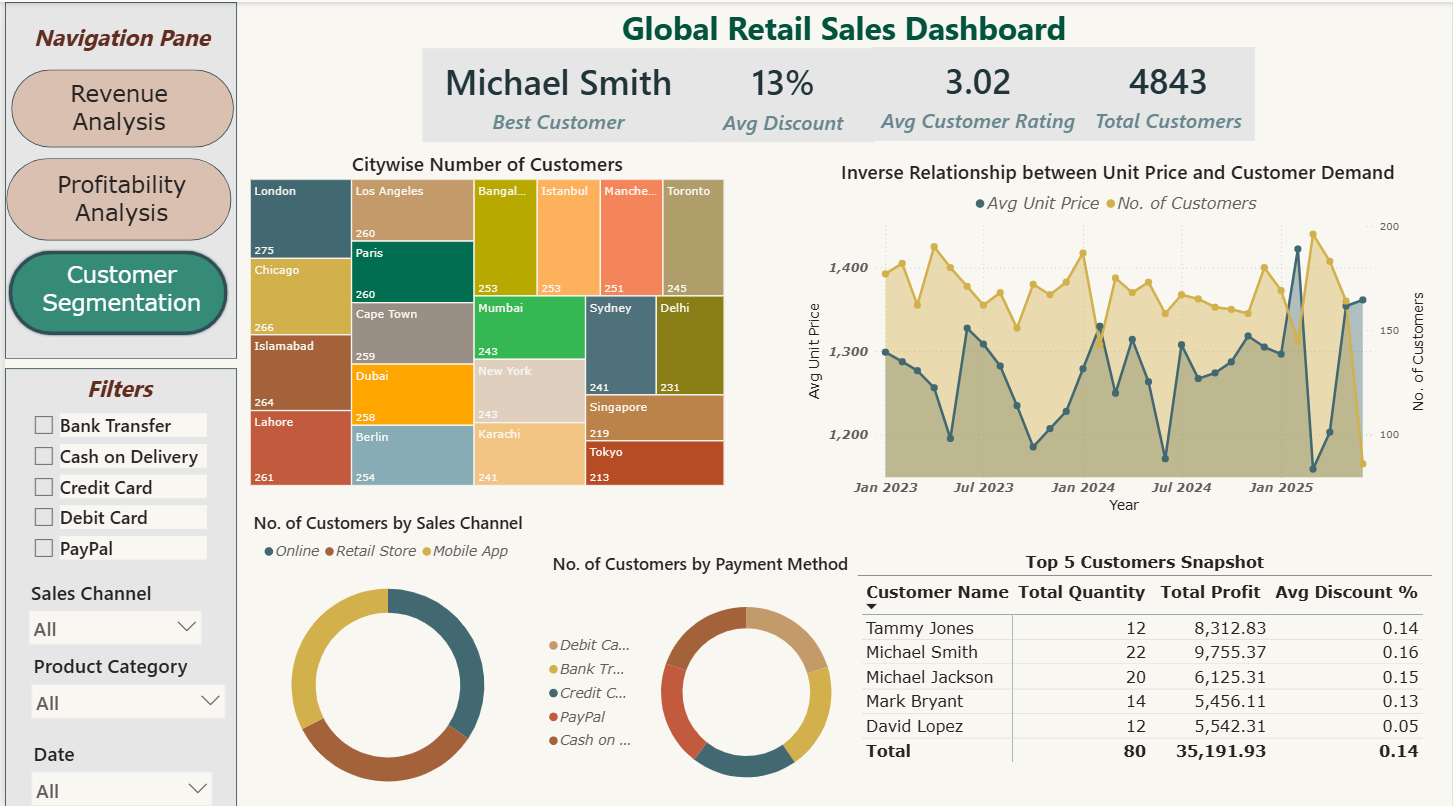

The page's visual inventory and layout, read from the dashboard file:
{"tool":"powerbi","page":{"name":"Customer Segmentation","canvas":[1700,950],"ordinal":2},"visuals":[{"type":"shape","box":[0,0,272.7,419.5],"z":0},{"type":"group","id":"g1","title":"Group 1","box":[1017.3,52.5,450.1,110.3],"z":0,"group":"g3"},{"type":"card","fields":{"Values":["Min(global_retail_sales_dataset.Customer_Name)"]},"box":[490.1,53.8,320,110],"z":1000,"group":"g3"},{"type":"shape","box":[6.7,80,261.7,91.7],"z":1000},{"type":"card","fields":{"Values":["Avg(global_retail_sales_dataset.Discount_Percent)"]},"box":[807.5,53.8,213.7,110],"z":2000,"group":"g3"},{"type":"group","id":"g2","title":"Group 3","box":[2,183,264.6,96.8],"z":2000},{"type":"shape","box":[0,430.5,272.7,519.5],"z":3000},{"type":"card","fields":{"Values":["Avg(global_retail_sales_dataset.Customer_Rating)"]},"box":[1017.3,52.5,252,110],"z":4000,"group":"g1"},{"type":"shape","box":[1.6,289,263,104.9],"z":4000},{"type":"card","fields":{"Values":["Count(global_retail_sales_dataset.Customer_Name)"]},"box":[1264.9,52.7,202.5,110],"z":5000,"group":"g1"},{"type":"shape","box":[2,183,264.6,96.8],"z":5000,"group":"g2"},{"type":"textbox","box":[61.3,430.8,145.2,59.7],"z":5000},{"type":"textbox","box":[53.7,191.3,168.3,81.7],"z":6000,"group":"g2"},{"type":"textbox","box":[33.3,298.3,206.7,85],"z":6000},{"type":"slicer","fields":{"Values":["global_retail_sales_dataset.Payment_Method"]},"box":[21.7,475,220,195],"z":7000},{"type":"slicer","fields":{"Values":["global_retail_sales_dataset.Sales_Channel"]},"box":[18.3,673.3,223.3,86.7],"z":8000},{"type":"slicer","fields":{"Values":["global_retail_sales_dataset.Product_Category"]},"box":[20,760,248.3,101.7],"z":9000},{"type":"slicer","fields":{"Values":["global_retail_sales_dataset.Order_Date.Variation.Date Hierarchy.Year","global_retail_sales_dataset.Order_Date.Variation.Date Hierarchy.Quarter","global_retail_sales_dataset.Order_Date.Variation.Date Hierarchy.Month","global_retail_sales_dataset.Order_Date.Variation.Date Hierarchy.Day"]},"box":[20,861.7,233.3,88.3],"z":10000},{"type":"textbox","box":[20,18.3,233.3,61.7],"z":11000},{"type":"textbox","box":[63.3,85,141.7,83.3],"z":12000},{"type":"textbox","box":[708,0,556,62],"z":13000},{"type":"group","id":"g3","title":"Group 5","box":[490.1,52.5,977.3,111.3],"z":14000},{"type":"treemap","title":"Citywise Number of Customers","fields":{"Group":["global_retail_sales_dataset.City"],"Values":["Count(global_retail_sales_dataset.Customer_Name)"]},"box":[283.3,173.3,566.7,400],"z":15000},{"type":"lineChart","title":"Inverse Relationship between Unit Price and Customer Demand","fields":{"Y":["Avg(global_retail_sales_dataset.Unit_Price)"],"Y2":["Count(global_retail_sales_dataset.Customer_Name)"],"Category":["global_retail_sales_dataset.Order_Date.Variation.Date Hierarchy.Year","global_retail_sales_dataset.Order_Date.Variation.Date Hierarchy.Quarter","global_retail_sales_dataset.Order_Date.Variation.Date Hierarchy.Month"]},"box":[938.3,183.3,738.3,421.7],"z":16000},{"type":"donutChart","fields":{"Category":["global_retail_sales_dataset.Sales_Channel"],"Y":["Count(global_retail_sales_dataset.Customer_Name)"]},"box":[283.3,598.3,333.3,351.7],"z":17000},{"type":"donutChart","fields":{"Category":["global_retail_sales_dataset.Payment_Method"],"Y":["Count(global_retail_sales_dataset.Customer_Name)"]},"box":[633.3,646.7,368.3,303.3],"z":18000},{"type":"pivotTable","title":"Top 5 Customers Snapshot","fields":{"Rows":["global_retail_sales_dataset.Customer_Name"],"Values":["Sum(global_retail_sales_dataset.Quantity)","Sum(global_retail_sales_dataset.Profit)","Avg(global_retail_sales_dataset.Discount_Percent)"]},"box":[1001.7,646.7,675,261.7],"z":19000}]}

Visuals, with their boxes in screenshot pixels (x1, y1, x2, y2), scaled from the page's 1700x950 canvas onto the 1453x806 screenshot:
shape: [0,0,233,356]
"Group 1" group: [869,45,1254,138]
card - Min(global_retail_sales_dataset.Customer_Name): [419,46,692,139]
shape: [6,68,229,146]
card - Avg(global_retail_sales_dataset.Discount_Percent): [690,46,873,139]
"Group 3" group: [2,155,228,237]
shape: [0,365,233,805]
card - Avg(global_retail_sales_dataset.Customer_Rating): [869,45,1085,138]
shape: [1,245,226,334]
card - Count(global_retail_sales_dataset.Customer_Name): [1081,45,1254,138]
shape: [2,155,228,237]
textbox: [52,365,176,416]
textbox: [46,162,190,232]
textbox: [28,253,205,325]
slicer - global_retail_sales_dataset.Payment_Method: [19,403,207,568]
slicer - global_retail_sales_dataset.Sales_Channel: [16,571,206,645]
slicer - global_retail_sales_dataset.Product_Category: [17,645,229,731]
slicer - global_retail_sales_dataset.Order_Date.Variation.Date Hierarchy.Year x global_retail_sales_dataset.Order_Date.Variation.Date Hierarchy.Quarter: [17,731,216,805]
textbox: [17,16,216,68]
textbox: [54,72,175,143]
textbox: [605,0,1080,53]
"Group 5" group: [419,45,1254,139]
"Citywise Number of Customers" treemap: [242,147,726,486]
"Inverse Relationship between Unit Price and Customer Demand" lineChart: [802,156,1433,513]
donutChart - global_retail_sales_dataset.Sales_Channel x Count(global_retail_sales_dataset.Customer_Name): [242,508,527,805]
donutChart - global_retail_sales_dataset.Payment_Method x Count(global_retail_sales_dataset.Customer_Name): [541,549,856,805]
"Top 5 Customers Snapshot" pivotTable: [856,549,1433,771]
